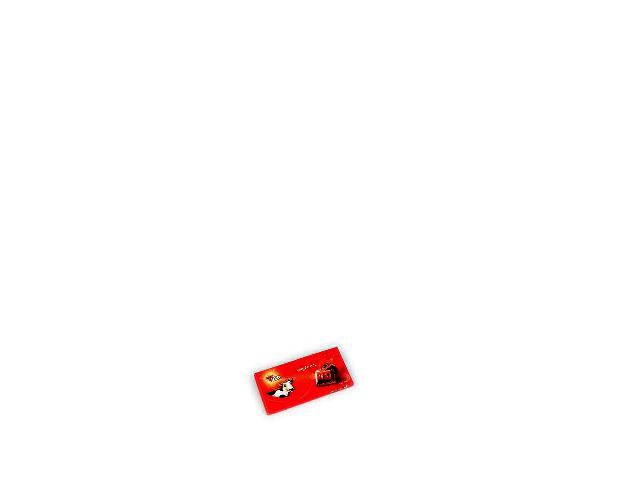chocolate: (256, 345, 354, 415)
